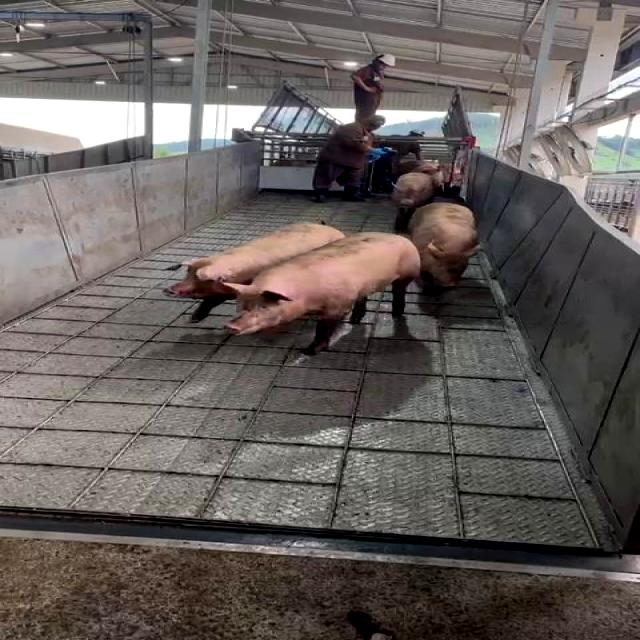pig: (226, 232, 419, 353), (165, 222, 344, 322), (407, 204, 478, 293), (392, 173, 439, 229)
